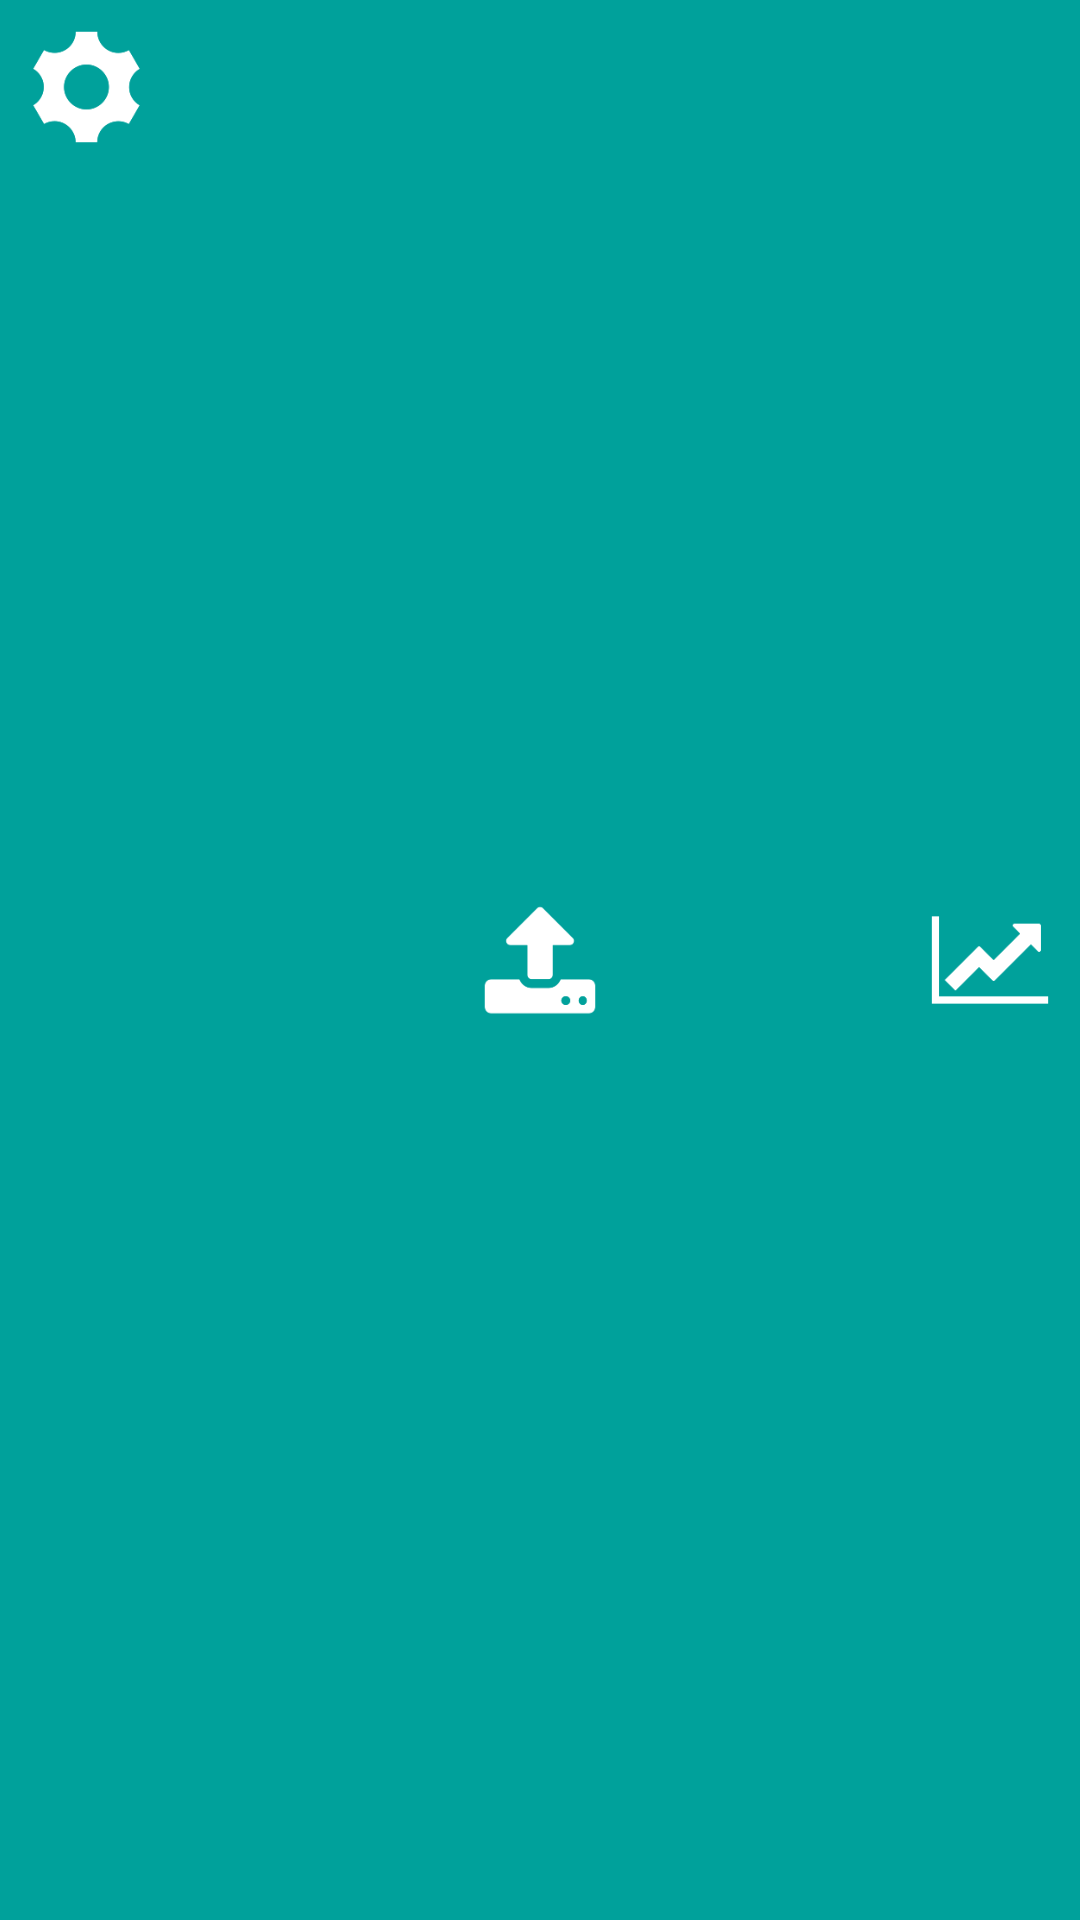

Named icons in this screenshot (1080px×1920px) and their centers, [x,y]:
im cog: [86,87]
line chart: [990,960]
upload: [540,960]
